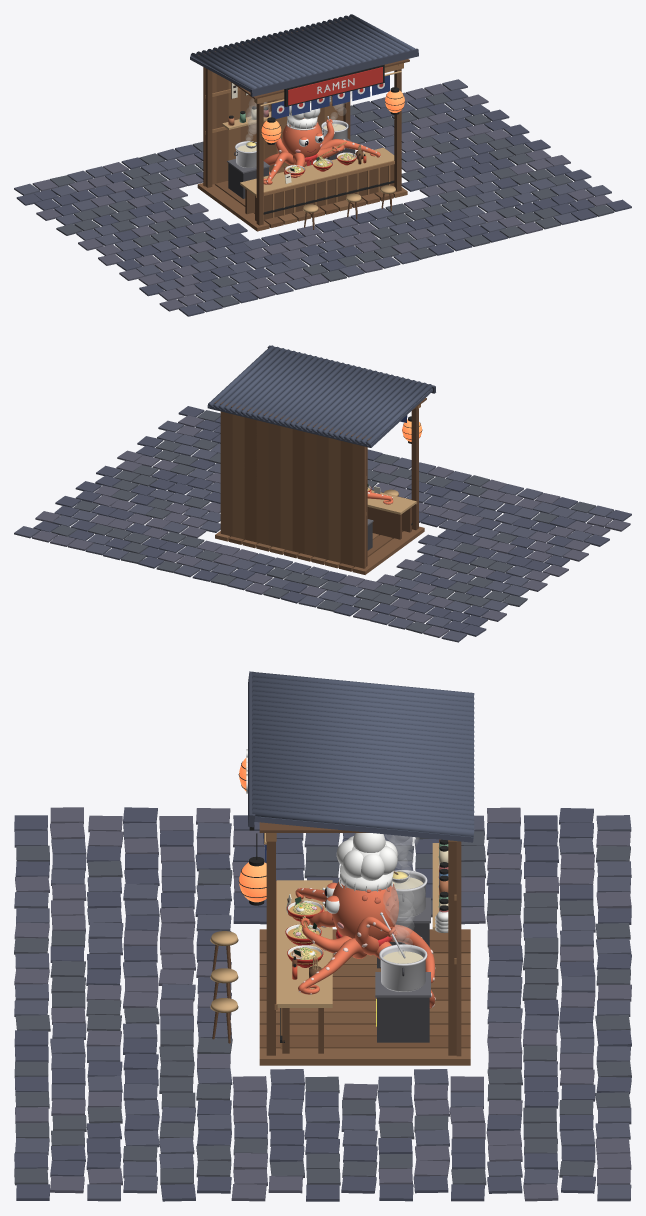
File: octopus_chef_ramen_booth.glb
3 renders of one model, top to bottom at view 1: azimuth 30°, elevation 25°; view 2: azimuth 150°, elevation 25°; view 3: azimuth 270°, elevation 25°, orthographic. The views are drawn at different scales.
Visible parts, largest first — view 1: Cobbles1, Cobbles0, Cobbles2, Cobbles3, CounterFront, CounterTop, SignBoard, RoofEdge, WallPlank1, Post_-1_-1, Post_-1_1, FloorPlank0 (+8 smaller); view 2: Cobbles1, Cobbles2, Cobbles0, Cobbles3, WallPlank0, WallPlank10, WallPlank1, WallPlank2, WallPlank3, WallPlank6, WallPlank9, WallPlank5 (+39 smaller); view 3: Cobbles1, Cobbles0, Cobbles2, Cobbles3, CounterTop, FloorPlank10, OctoMantle, StoveRBox, Post_1_-1, FloorPlank9, Post_1_1, RoofRidge29 (+45 smaller).
Boxes of the visible parts, box(x1,y1,x2,y2) form: Cobbles1: box(16, 89, 631, 316); Cobbles0: box(14, 79, 611, 312); Cobbles2: box(32, 83, 612, 311); Cobbles3: box(50, 93, 614, 307); CounterFront: box(255, 164, 394, 220); CounterTop: box(240, 147, 394, 195); SignBoard: box(288, 67, 382, 105); RoofEdge: box(250, 48, 418, 96); WallPlank1: box(216, 74, 228, 183); Post_-1_-1: box(256, 102, 263, 225); Post_-1_1: box(205, 68, 212, 187); FloorPlank0: box(197, 183, 269, 231); Cobbles1: box(33, 406, 631, 636); Cobbles2: box(32, 415, 630, 637); Cobbles0: box(14, 420, 613, 642); Cobbles3: box(51, 410, 595, 633); WallPlank0: box(352, 444, 365, 568); WallPlank10: box(232, 414, 244, 540); WallPlank1: box(340, 441, 352, 565); WallPlank2: box(328, 438, 340, 563); WallPlank3: box(316, 435, 328, 560); WallPlank6: box(280, 426, 292, 551); WallPlank9: box(244, 417, 256, 542); WallPlank5: box(292, 429, 304, 553); Cobbles1: box(14, 807, 631, 1201); Cobbles0: box(14, 815, 631, 1201); Cobbles2: box(14, 807, 631, 1201); Cobbles3: box(14, 831, 631, 1185); CounterTop: box(277, 880, 332, 1007); FloorPlank10: box(259, 1048, 470, 1065); OctoMantle: box(332, 882, 398, 939); StoveRBox: box(377, 997, 429, 1042); Post_1_-1: box(266, 841, 275, 1055); FloorPlank9: box(259, 1036, 470, 1048); Post_1_1: box(448, 841, 456, 1055); RoofRidge29: box(252, 808, 474, 836).
Size of what is drawn, in the model's own units: 15.81 by 4.92 by 10.54.
